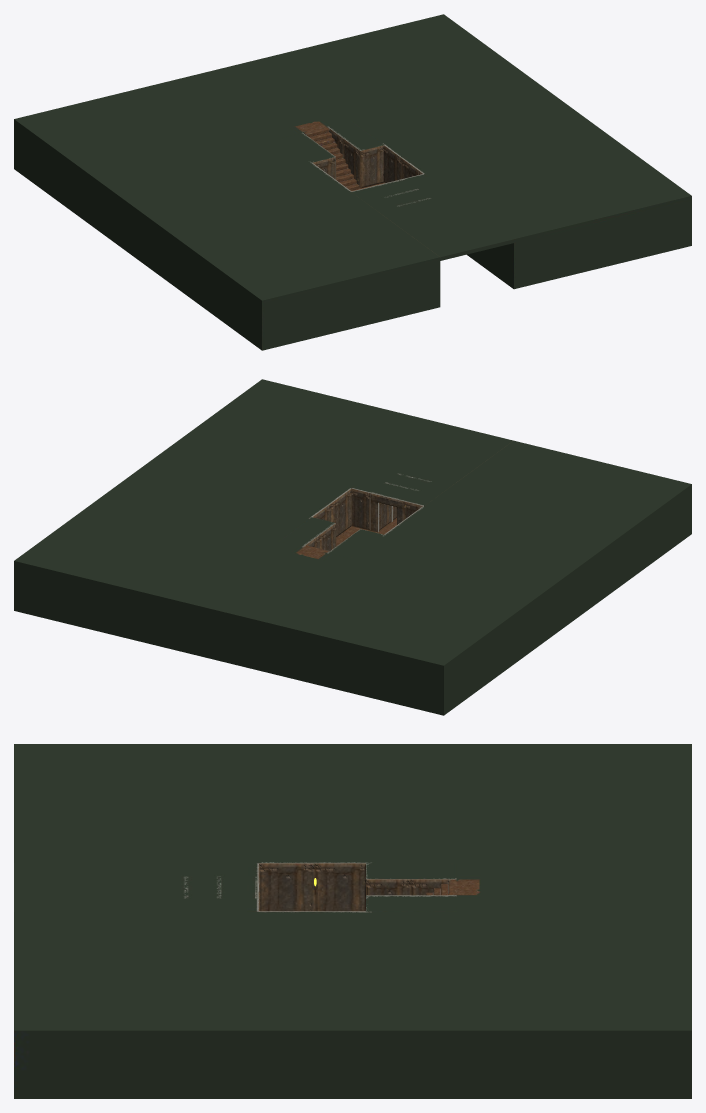
The model's file is room.glb.
3 views of the same model, one above another, from view 1: azimuth 30°, elevation 25°; view 2: azimuth 150°, elevation 25°; view 3: azimuth 270°, elevation 25° (orthographic). The views are drawn at different scales.
Visible parts, largest first — view 1: INSIDE-BARROW; view 2: INSIDE-BARROW; view 3: INSIDE-BARROW.
Boxes of the visible parts, x1,y1,x2,y2 form: INSIDE-BARROW: (14, 14, 691, 350); INSIDE-BARROW: (14, 379, 691, 715); INSIDE-BARROW: (14, 744, 691, 1098).
Bounding box in the file's own units: 36 × 4.01 × 36.
1 material, 1 textured.
